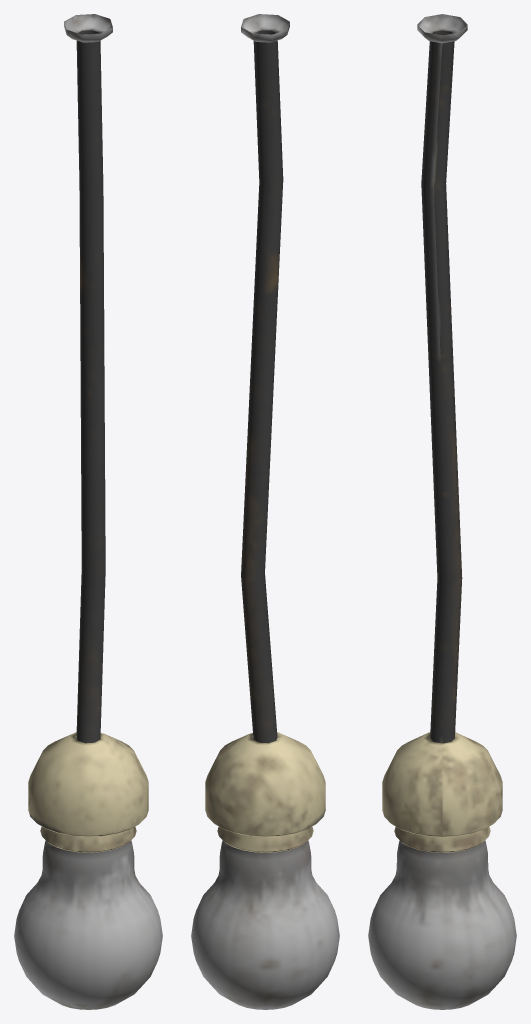
File: SM_lightbulb.fbx
3 renders of one model, left to right at view 1: azimuth 30°, elevation 25°; view 2: azimuth 150°, elevation 25°; view 3: azimuth 270°, elevation 25°, orthographic.
Parts seen in each view (by area): view 1: SM_lightbulb_LOD0; view 2: SM_lightbulb_LOD0; view 3: SM_lightbulb_LOD0.
Part boxes in pixels (bbox=[...]): SM_lightbulb_LOD0: bbox=[14, 14, 162, 1009]; SM_lightbulb_LOD0: bbox=[191, 14, 339, 1009]; SM_lightbulb_LOD0: bbox=[368, 14, 516, 1009].
Size of the model in its own units: 6 by 6 by 43.57.
